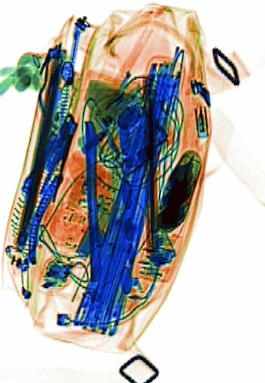powerbank: (150, 147, 203, 235)
